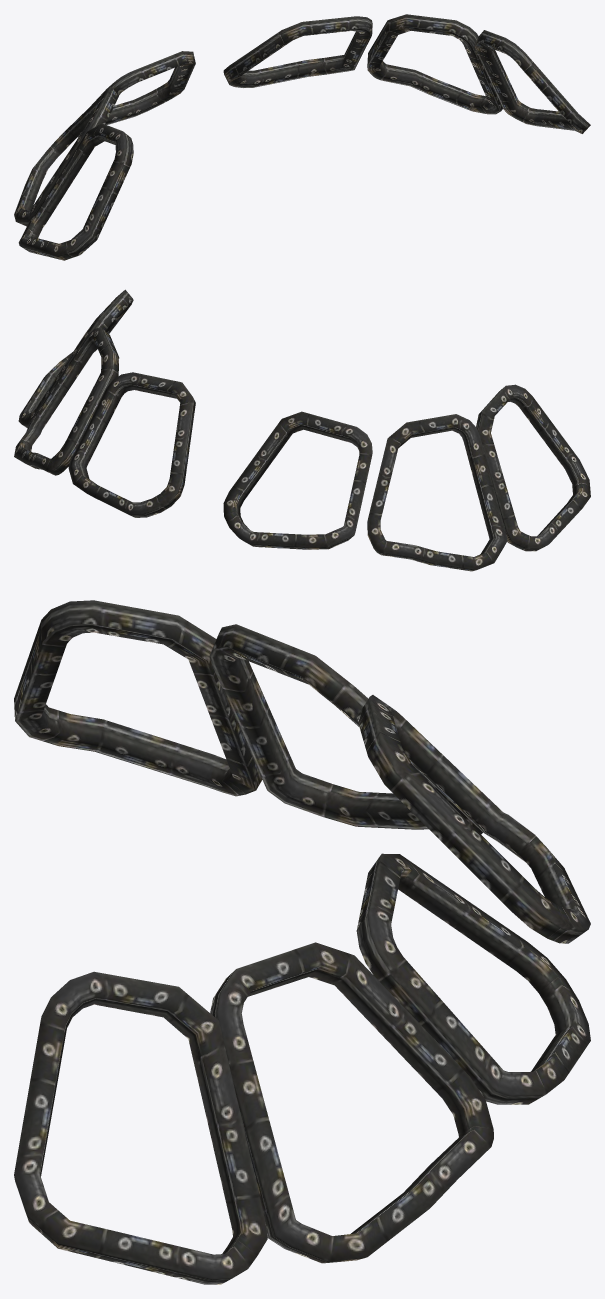
The model's file is windows.fbx.
3 renders of one model, top to bottom at view 1: azimuth 30°, elevation 25°; view 2: azimuth 150°, elevation 25°; view 3: azimuth 270°, elevation 25°, orthographic. The views are drawn at different scales.
Parts seen in each view (by area): view 1: Windows; view 2: Windows; view 3: Windows.
Boxes of the visible parts, bbox=[...] form: Windows: bbox=[14, 14, 590, 260]; Windows: bbox=[14, 289, 590, 571]; Windows: bbox=[14, 600, 590, 1284].
Bounding box in the file's own units: 14.87 × 3.42 × 6.94.
